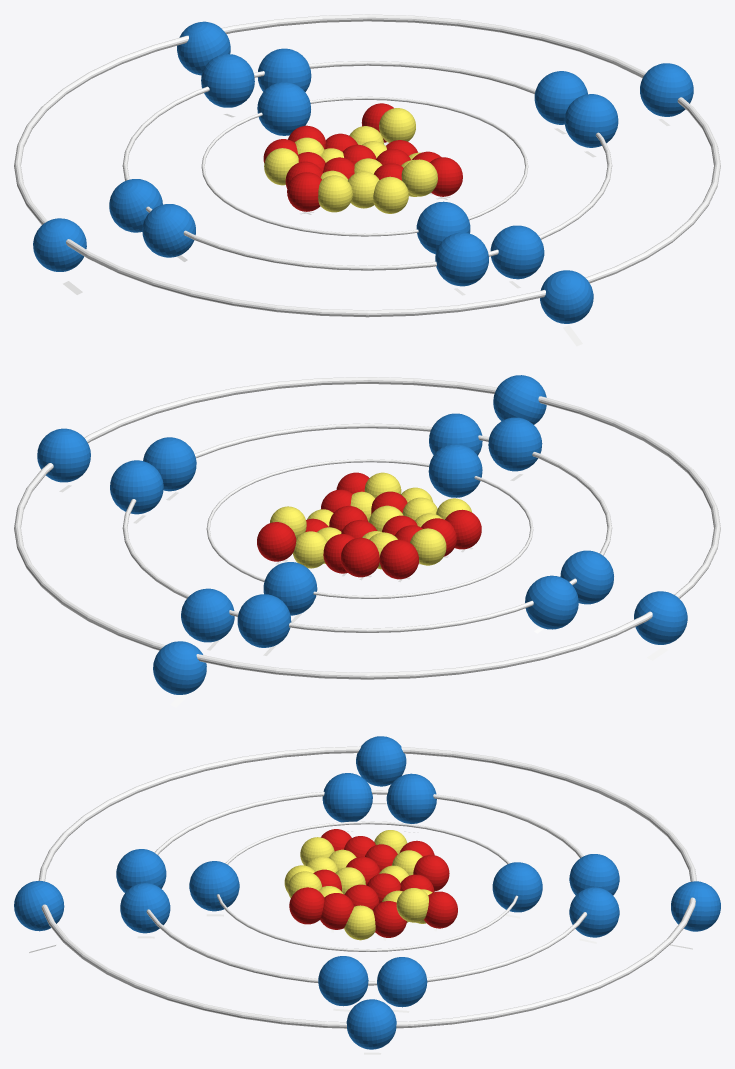
3 views of the same model, one above another, from view 1: azimuth 30°, elevation 25°; view 2: azimuth 150°, elevation 25°; view 3: azimuth 270°, elevation 25° (orthographic). The views are drawn at different scales.
Parts seen in each view (by area): view 1: Torus.003, Torus.002, Torus.001, -.008, -.004, -.005, -.013, -.003, -.001, -.002, -.010, -.011 (+13 smaller); view 2: Torus.003, Torus.002, Torus.001, -.004, -.008, -, -.009, -.006, -.012, -.007, -.010, -.011 (+17 smaller); view 3: Torus.003, Torus.002, Torus.001, -.010, -.002, -.007, -.006, -.003, -.011, -, -.001, -.009 (+17 smaller).
Part boxes in pixels (x1=…): Torus.003: x1=14, y1=14, x2=720, y2=317; Torus.002: x1=122, y1=61, x2=612, y2=270; Torus.001: x1=201, y1=96, x2=528, y2=236; -.008: x1=435, y1=232, x2=488, y2=286; -.004: x1=201, y1=54, x2=254, y2=107; -.005: x1=490, y1=225, x2=544, y2=279; -.013: x1=540, y1=270, x2=593, y2=323; -.003: x1=142, y1=204, x2=195, y2=257; -.001: x1=257, y1=82, x2=310, y2=135; -.002: x1=564, y1=94, x2=618, y2=147; -.010: x1=640, y1=63, x2=693, y2=116; -.011: x1=33, y1=218, x2=86, y2=271; Torus.003: x1=14, y1=377, x2=720, y2=679; Torus.002: x1=122, y1=423, x2=612, y2=632; Torus.001: x1=206, y1=459, x2=533, y2=598; -.004: x1=237, y1=594, x2=291, y2=647; -.008: x1=488, y1=417, x2=542, y2=471; -: x1=428, y1=444, x2=482, y2=497; -.009: x1=181, y1=588, x2=234, y2=642; -.006: x1=525, y1=575, x2=578, y2=629; -.012: x1=153, y1=641, x2=206, y2=694; -.007: x1=110, y1=460, x2=163, y2=514; -.010: x1=37, y1=428, x2=90, y2=482; -.011: x1=634, y1=591, x2=687, y2=644; Torus.003: x1=38, y1=746, x2=696, y2=1028; Torus.002: x1=146, y1=790, x2=587, y2=985; Torus.001: x1=216, y1=821, x2=518, y2=951; -.010: x1=346, y1=999, x2=396, y2=1049; -.002: x1=318, y1=956, x2=368, y2=1006; -.007: x1=377, y1=957, x2=427, y2=1007; -.006: x1=386, y1=773, x2=436, y2=823; -.003: x1=322, y1=773, x2=372, y2=822; -.011: x1=356, y1=736, x2=406, y2=786; -: x1=189, y1=861, x2=239, y2=911; -.001: x1=492, y1=862, x2=542, y2=912; -.009: x1=569, y1=887, x2=619, y2=937.
Size of the model in its own units: 6.47 by 0.7994 by 6.54.
